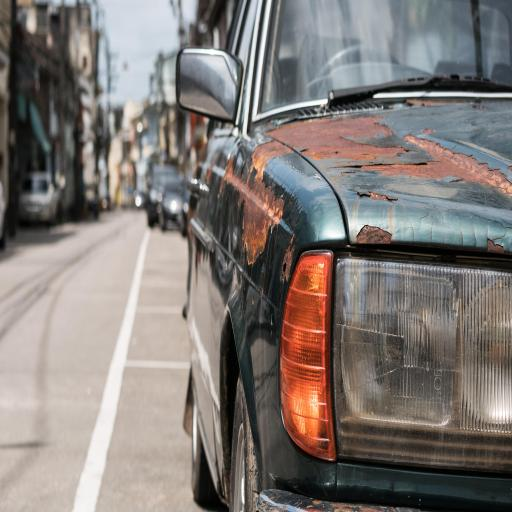segmentation: (224, 140, 322, 287), (358, 132, 511, 196), (271, 116, 405, 161), (240, 183, 283, 265), (356, 225, 392, 243)
